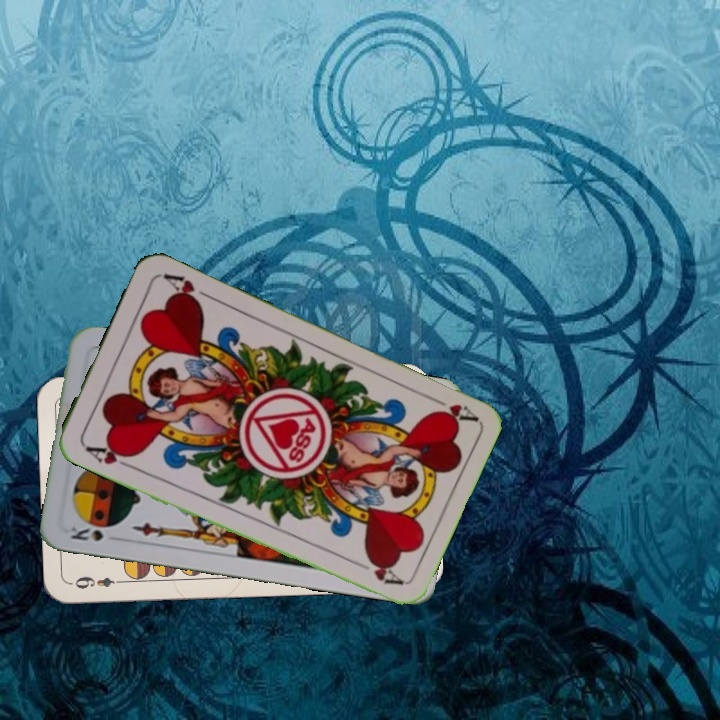E9: (68, 572, 127, 592)
HA: (422, 391, 479, 426), (80, 440, 138, 472)
SK: (66, 519, 119, 544)
